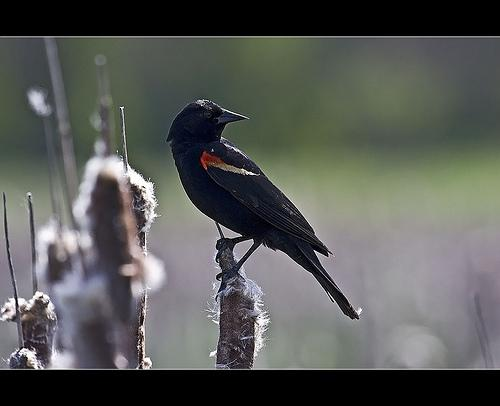010.Red_winged_Blackbird: (166, 96, 360, 324)
